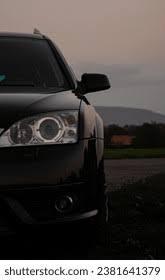car: (1, 27, 113, 214)
